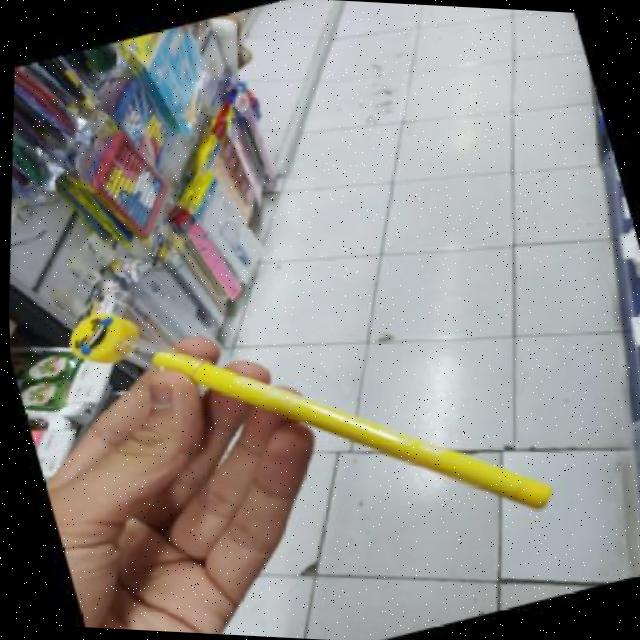pencil: (72, 314, 554, 510)
